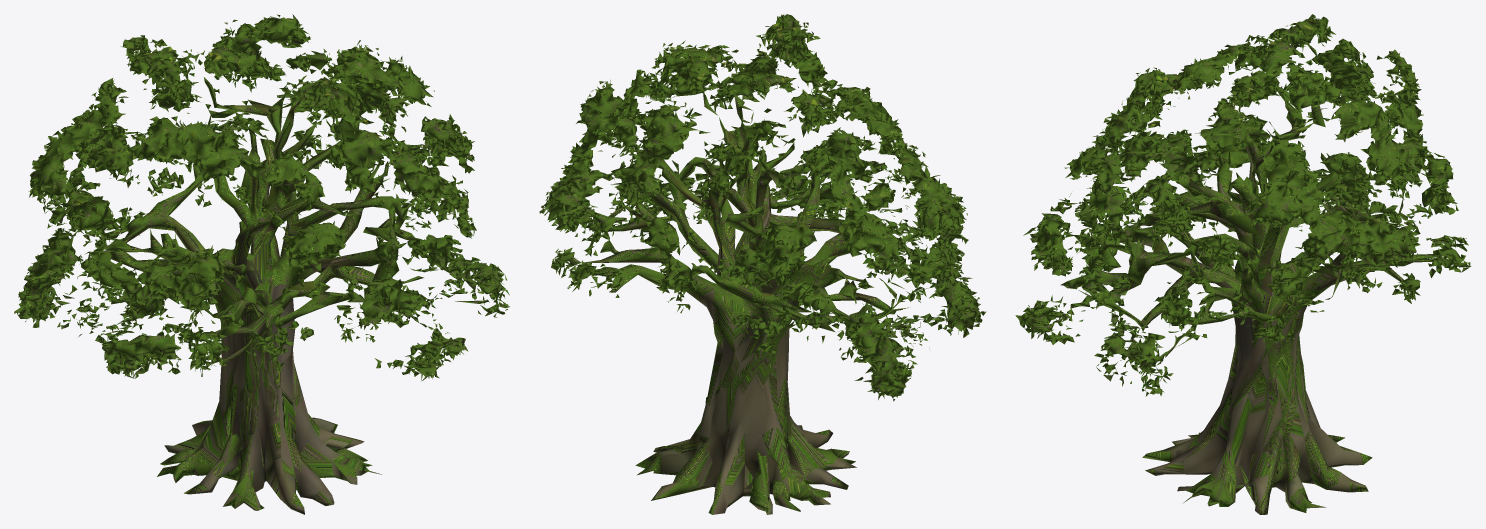
The model's file is tree-b.glb.
3 views of the same model, side by side, from view 1: azimuth 30°, elevation 25°; view 2: azimuth 150°, elevation 25°; view 3: azimuth 270°, elevation 25° (orthographic). The views are drawn at different scales.
Size of the model in its own units: 1.86 by 1.97 by 1.94.
1 material, 1 textured.
